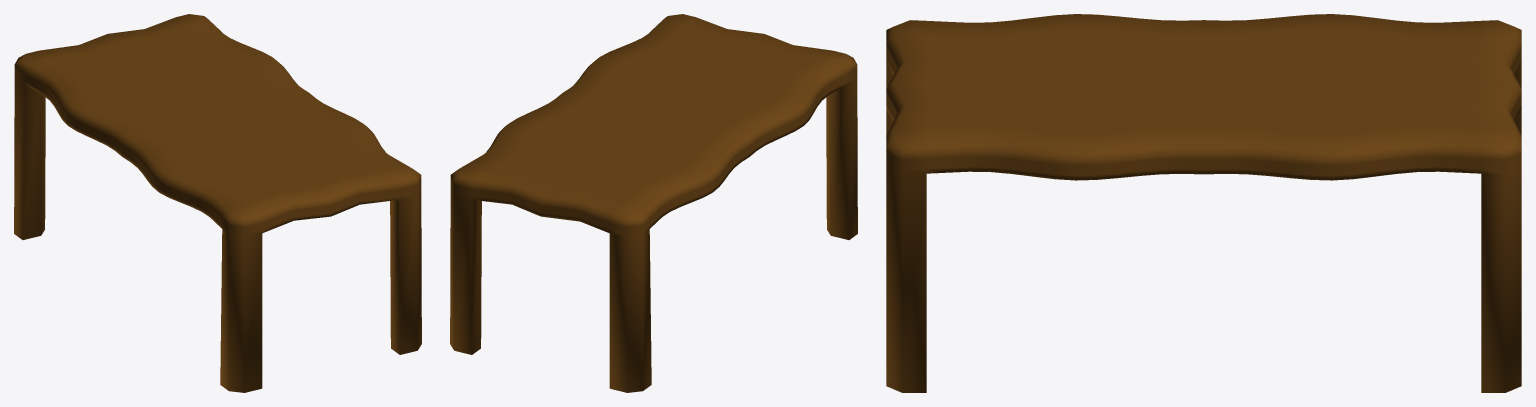
File: Mesa.fbx
3 renders of one model, left to right at view 1: azimuth 30°, elevation 25°; view 2: azimuth 150°, elevation 25°; view 3: azimuth 270°, elevation 25°, orthographic. The views are drawn at different scales.
Visible parts, largest first — view 1: Cube; view 2: Cube; view 3: Cube.
Part boxes in pixels (box(x1,y1,x2,y2)): Cube: box(14, 14, 421, 392); Cube: box(450, 14, 857, 392); Cube: box(886, 14, 1521, 392).
Size of the model in its own units: 560 by 446 by 1050.
